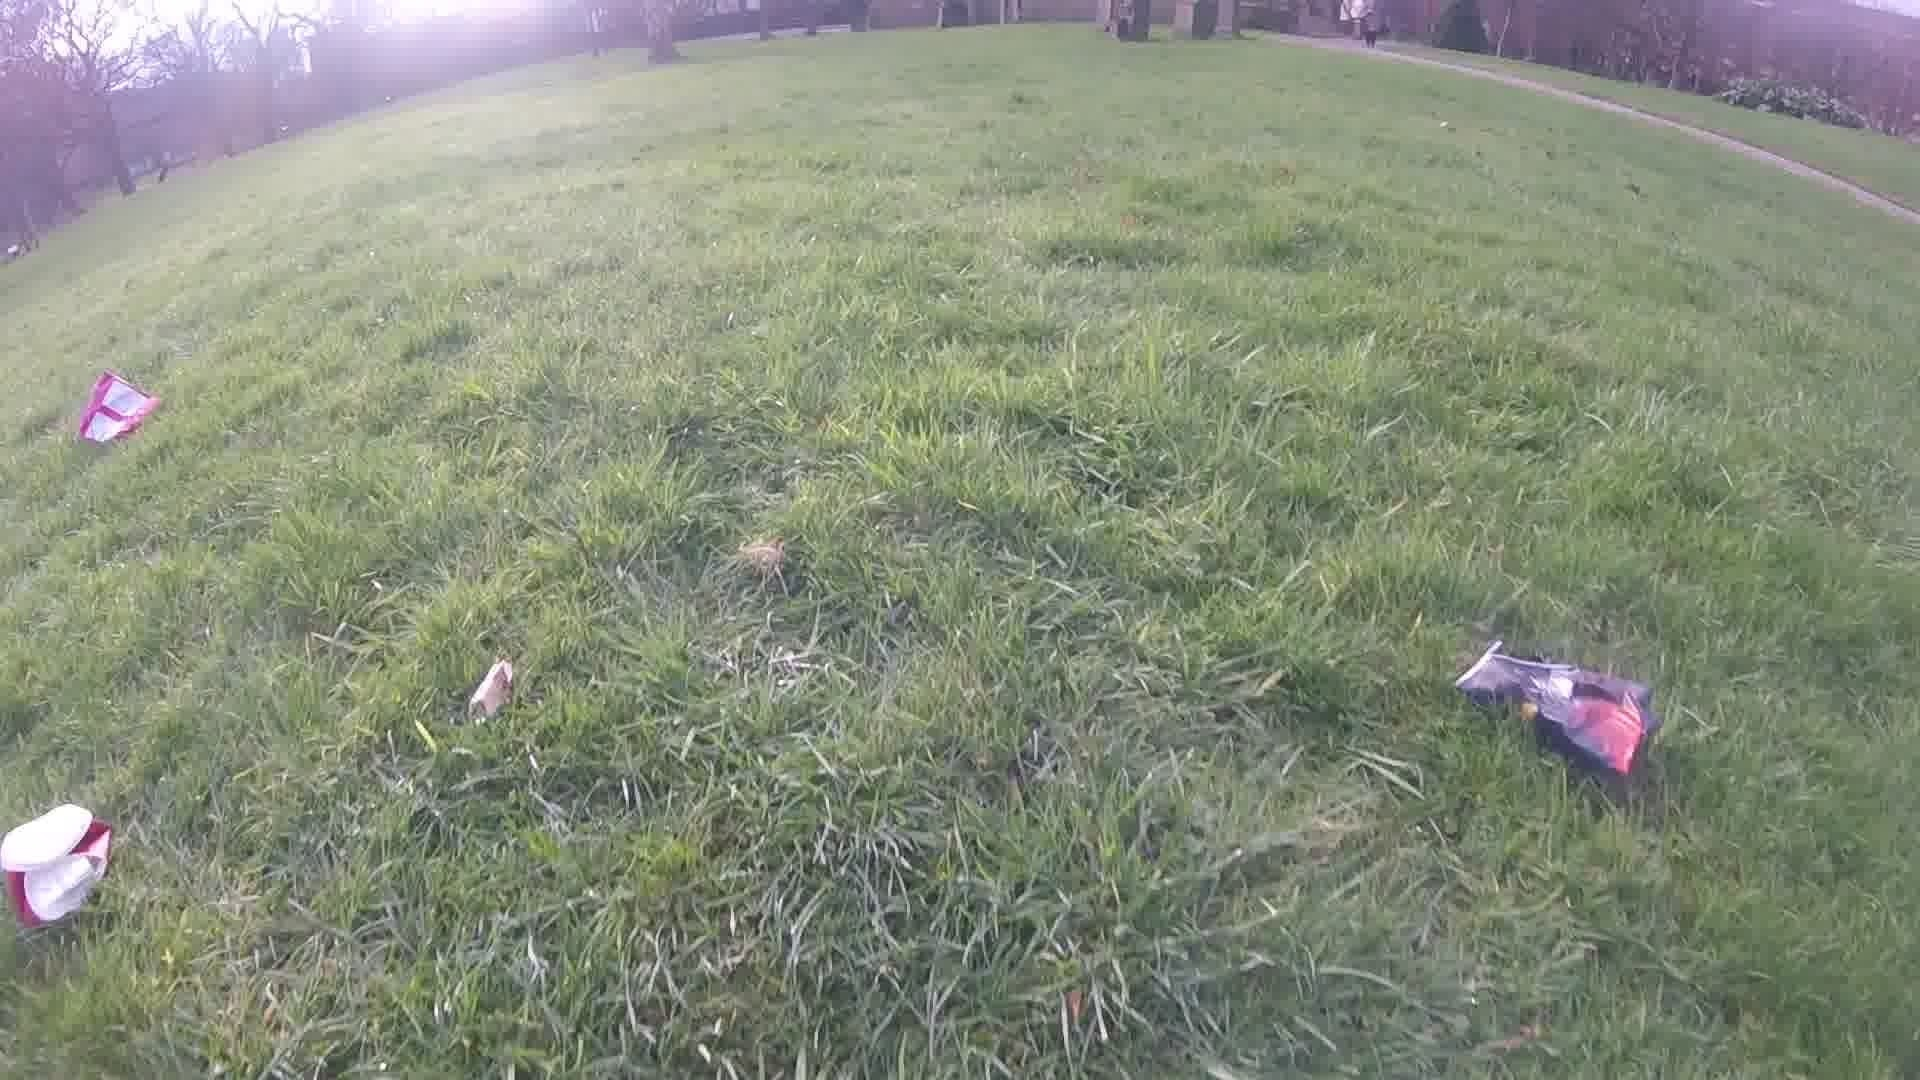litter: (1451, 636, 1658, 777), (0, 799, 115, 928), (75, 367, 160, 446)
